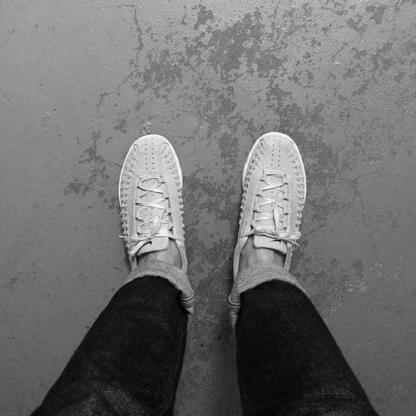ankle: (160, 244, 164, 248), (254, 244, 257, 247)
heel: (182, 269, 185, 271), (236, 280, 238, 282)
left_foot: (119, 135, 189, 277)
pinky: (300, 163, 302, 168), (123, 172, 126, 175)
right_foot: (234, 132, 308, 290)
toe: (259, 143, 262, 147), (167, 146, 171, 149)
